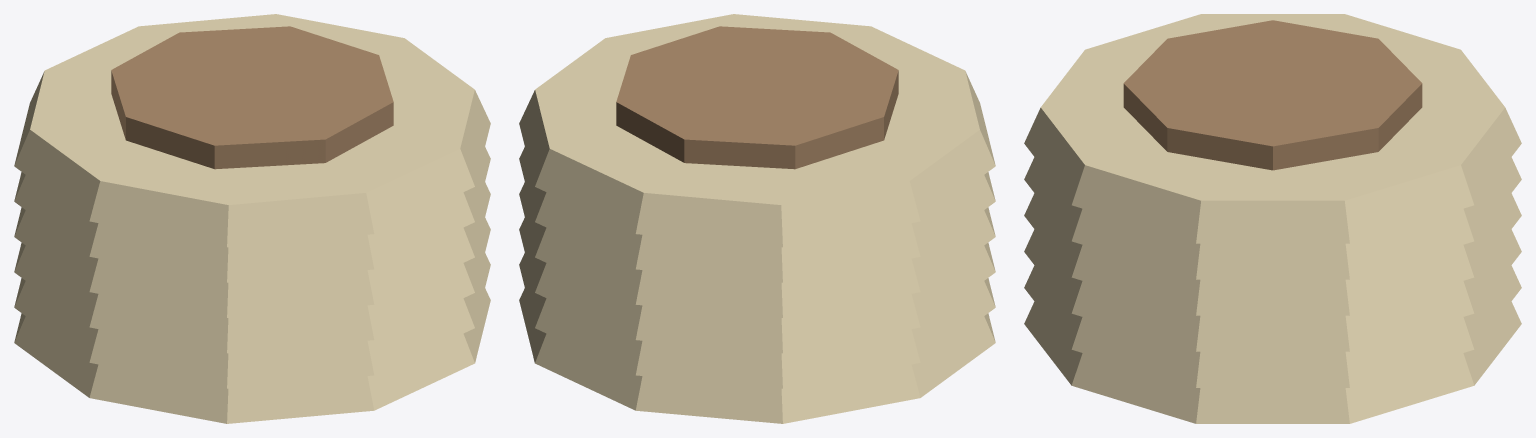
The model's file is corda.glb.
3 renders of one model, left to right at view 1: azimuth 30°, elevation 25°; view 2: azimuth 150°, elevation 25°; view 3: azimuth 270°, elevation 25°, orthographic. The views are drawn at different scales.
Parts seen in each view (by area): view 1: corda; view 2: corda; view 3: corda.
Boxes of the visible parts, x1,y1,x2,y2 form: corda: (14,14,490,423); corda: (519,14,995,423); corda: (1024,14,1521,423).
Size of the model in its own units: 0.1427 by 0.08 by 0.15.
